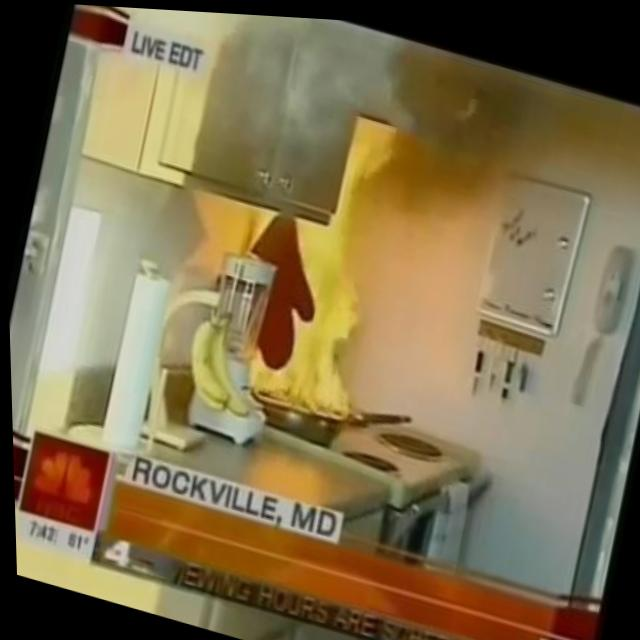fire: (220, 87, 422, 431)
